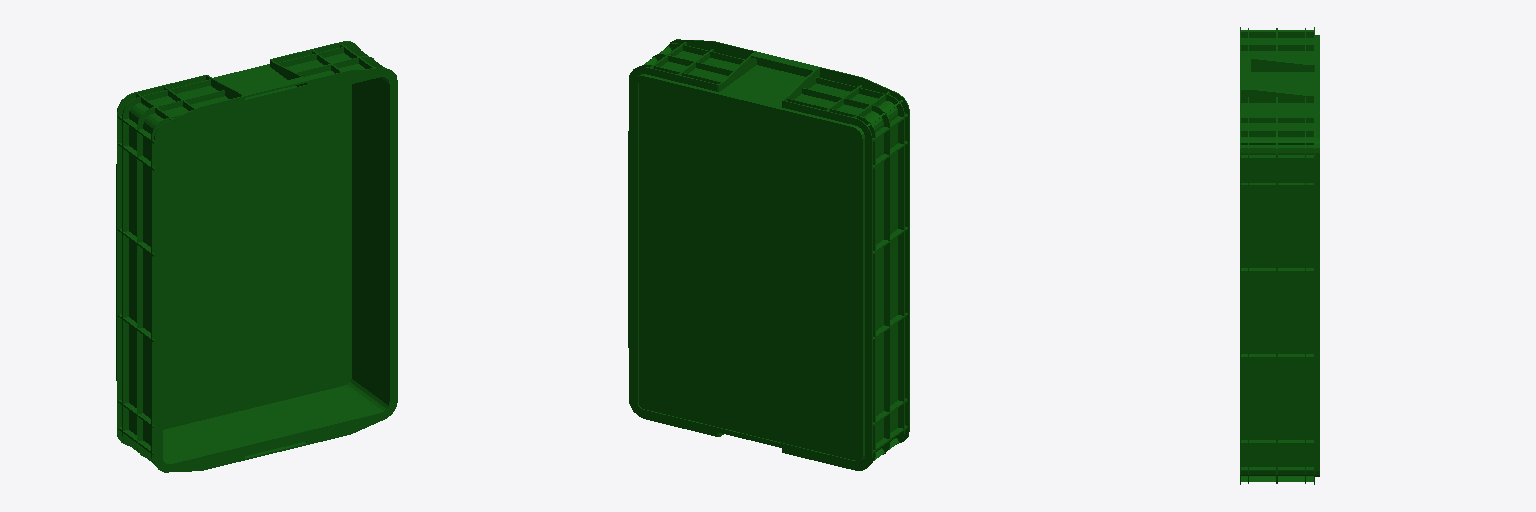
The model's file is medium_bin.obj.
3 views of the same model, side by side, from view 1: azimuth 30°, elevation 25°; view 2: azimuth 150°, elevation 25°; view 3: azimuth 270°, elevation 25° (orthographic).
Parts seen in each view (by area): view 1: polySurface62_Mesh; view 2: polySurface62_Mesh; view 3: polySurface62_Mesh.
Boxes of the visible parts, box(x1,y1,x2,y2) form: polySurface62_Mesh: box(116, 41, 397, 472); polySurface62_Mesh: box(628, 39, 909, 470); polySurface62_Mesh: box(1240, 27, 1319, 484).
Bounding box in the file's own units: 0.35 × 0.5 × 0.1.